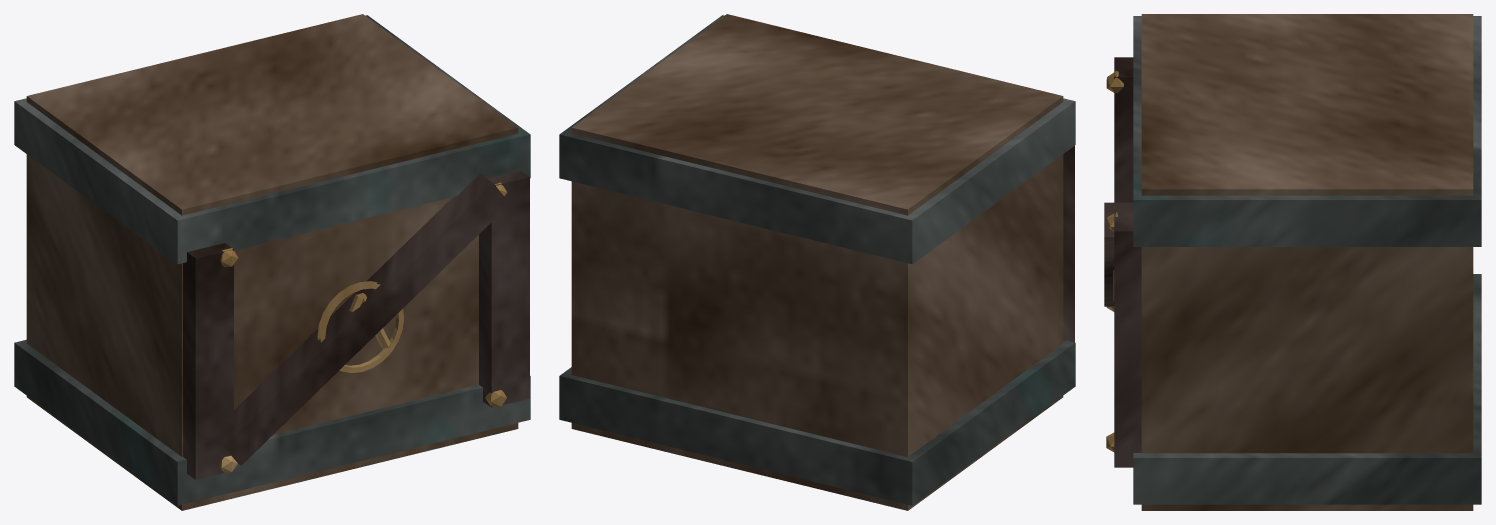
The model's file is 0738_supply_crate_13.glb.
3 renders of one model, left to right at view 1: azimuth 30°, elevation 25°; view 2: azimuth 150°, elevation 25°; view 3: azimuth 270°, elevation 25°, orthographic. The views are drawn at different scales.
Visible parts, largest first — view 1: wood, iron, wood_dark, brass; view 2: wood, iron, wood_dark; view 3: wood, iron, wood_dark, brass.
Boxes of the visible parts, x1,y1,x2,y2 form: wood: [26, 14, 518, 510]; iron: [14, 15, 530, 505]; wood_dark: [183, 170, 529, 479]; brass: [220, 182, 507, 472]; wood: [571, 14, 1063, 510]; iron: [559, 15, 1075, 505]; wood_dark: [1063, 146, 1074, 342]; wood: [1141, 14, 1473, 510]; iron: [1133, 16, 1481, 504]; wood_dark: [1104, 57, 1141, 467]; brass: [1106, 70, 1123, 452].
Bounding box in the file's own units: 0.9261 × 0.7552 × 0.8024.
Materials: 4 (4 with a texture image).
